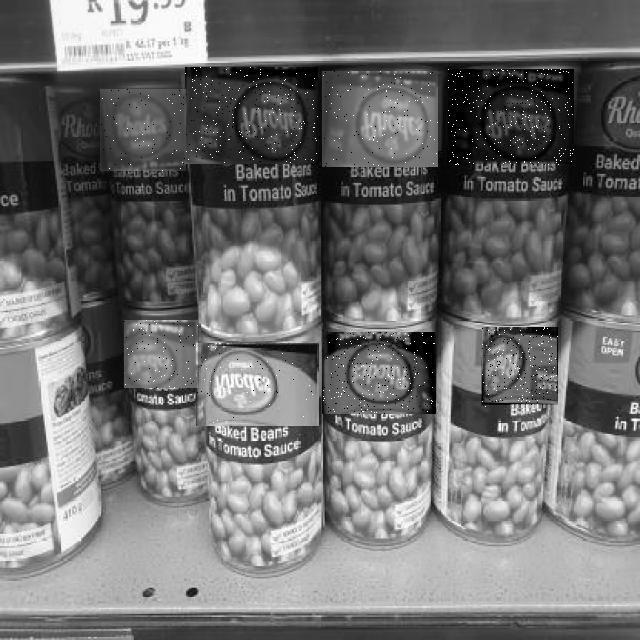Beans: (185, 67, 318, 164), (449, 70, 575, 166), (322, 71, 438, 167), (196, 343, 319, 426), (322, 332, 436, 414), (100, 89, 186, 171), (482, 328, 558, 408), (124, 321, 198, 389)
